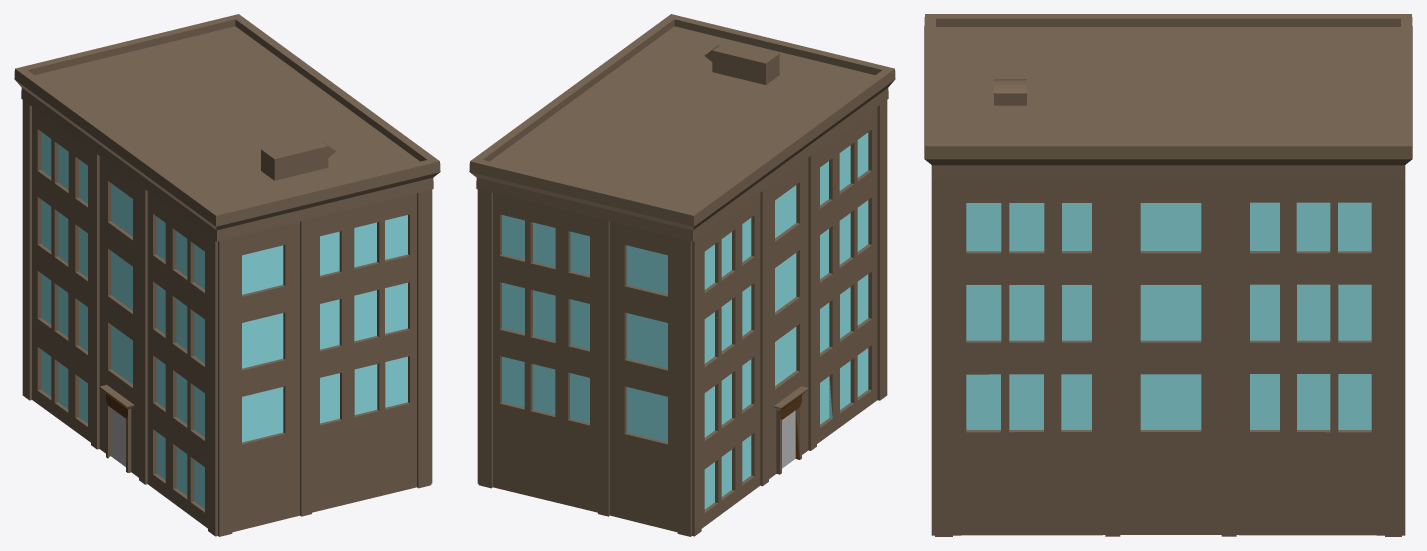
File: apt.fbx
3 views of the same model, side by side, from view 1: azimuth 30°, elevation 25°; view 2: azimuth 150°, elevation 25°; view 3: azimuth 270°, elevation 25° (orthographic). The views are drawn at different scales.
Visible parts, largest first — view 1: Object02, Box02; view 2: Object02, Box02; view 3: Object02, Box02.
Part boxes in pixels (bbox=[...]): Object02: bbox=[14, 14, 440, 536]; Box02: bbox=[261, 136, 335, 180]; Object02: bbox=[469, 14, 895, 536]; Box02: bbox=[704, 40, 779, 84]; Object02: bbox=[924, 14, 1412, 536]; Box02: bbox=[994, 47, 1026, 105].
Bounding box in the file's own units: 63.92 × 91.74 × 98.86.
